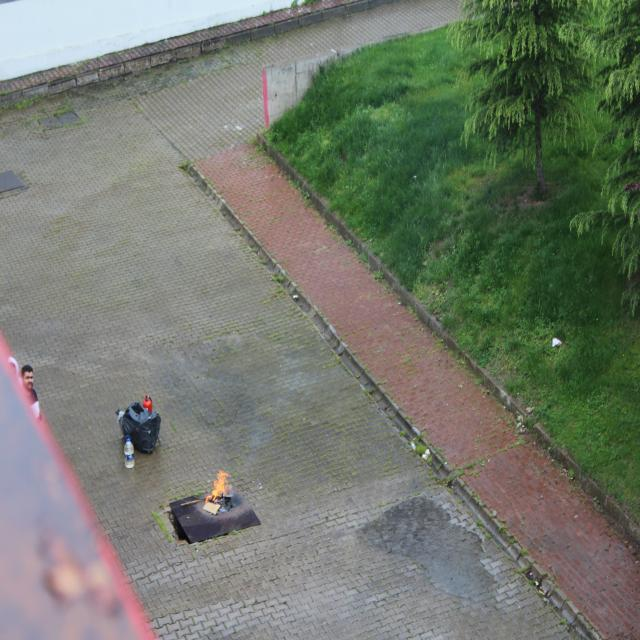fire: (195, 458, 242, 522)
